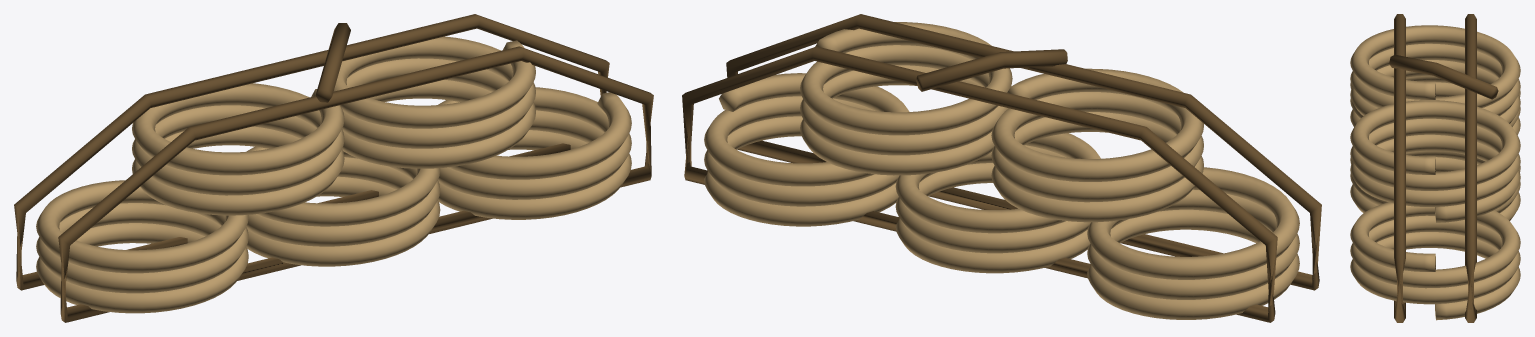
The model's file is SM_StorageRopeBundle.fbx.
The picture shows the model from 3 angles, left to right: view 1: azimuth 30°, elevation 25°; view 2: azimuth 150°, elevation 25°; view 3: azimuth 270°, elevation 25°; orthographic projection. The views are drawn at different scales.
Visible parts, largest first — view 1: SM_StorageRopeBundle; view 2: SM_StorageRopeBundle; view 3: SM_StorageRopeBundle.
Part boxes in pixels (x1=…): SM_StorageRopeBundle: x1=14, y1=14, x2=653, y2=322; SM_StorageRopeBundle: x1=682, y1=14, x2=1321, y2=322; SM_StorageRopeBundle: x1=1350, y1=14, x2=1520, y2=322.
Size of the model in its own units: 0.6491 by 0.202 by 0.1924.
